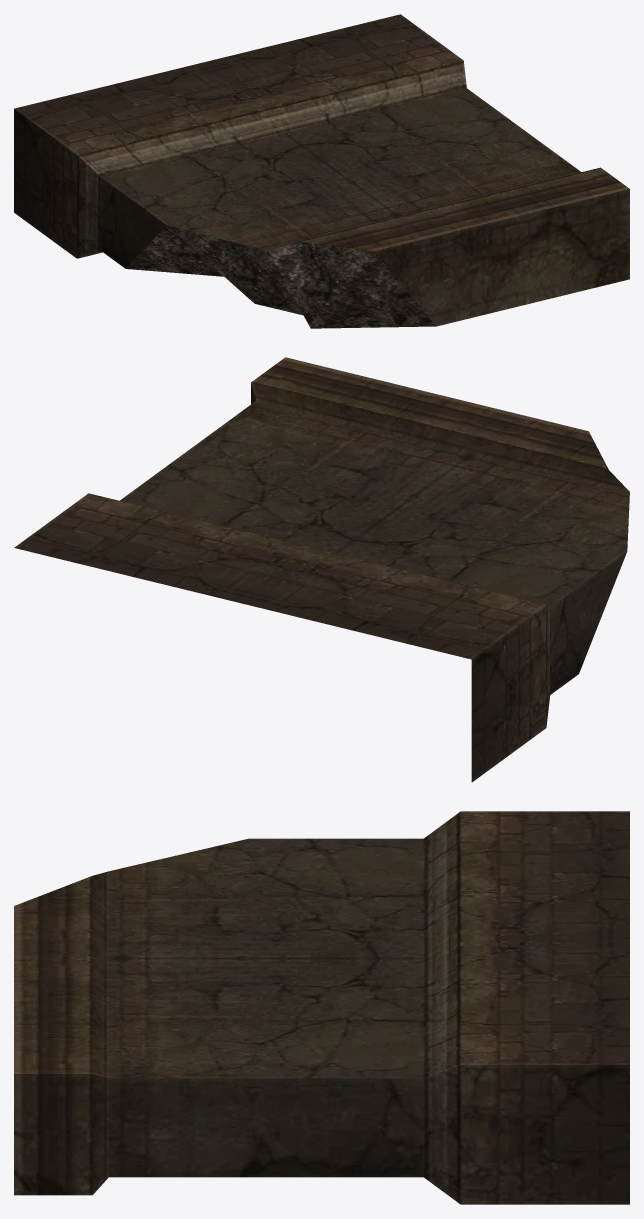
The picture shows the model from 3 angles, top to bottom: view 1: azimuth 30°, elevation 25°; view 2: azimuth 150°, elevation 25°; view 3: azimuth 270°, elevation 25°; orthographic projection. The views are drawn at different scales.
Visible parts, largest first — view 1: model_Object13; view 2: model_Object13; view 3: model_Object13.
Boxes of the visible parts, box(x1,y1,x2,y2) form: model_Object13: box(14, 14, 629, 328); model_Object13: box(14, 357, 629, 782); model_Object13: box(14, 811, 629, 1204).
Size of the model in its own units: 2.39 by 0.6132 by 2.45.
Materials: 2 (2 with a texture image).
